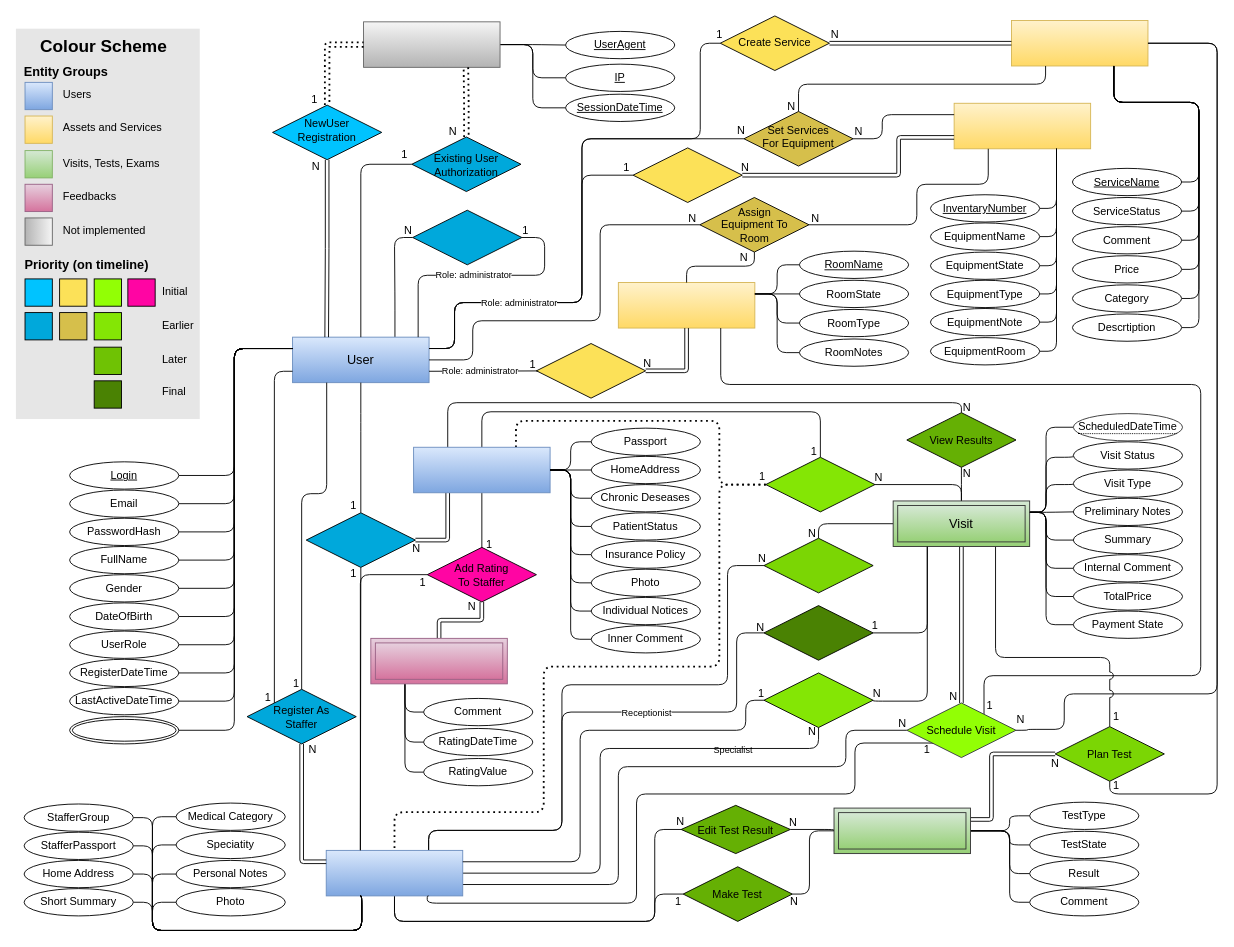
Image size: 1234x947. Some labels were removed from this diagram. Each missing label, with the centre of its shape:
"Accept Payment" goes at [818,632].
"Add Assistants" goes at [818,700].
"Approve As Administrator" goes at [467,237].
"Create Equipment" goes at [687,174].
"Create Room" goes at [591,370].
"Edit Visit" goes at [818,565].
"Equipment" goes at [1022,125].
"Guest" goes at [431,44].
"Patient" goes at [481,469].
"Phone Number" goes at [124,730].
"Rating" goes at [438,660].
"Record To Visit" goes at [820,484].
"Register As Patient" goes at [360,539].
"Room" goes at [686,305].
"Service" goes at [1079,43].
"Staffer" goes at [394,872].
"Test" goes at [902,830].
